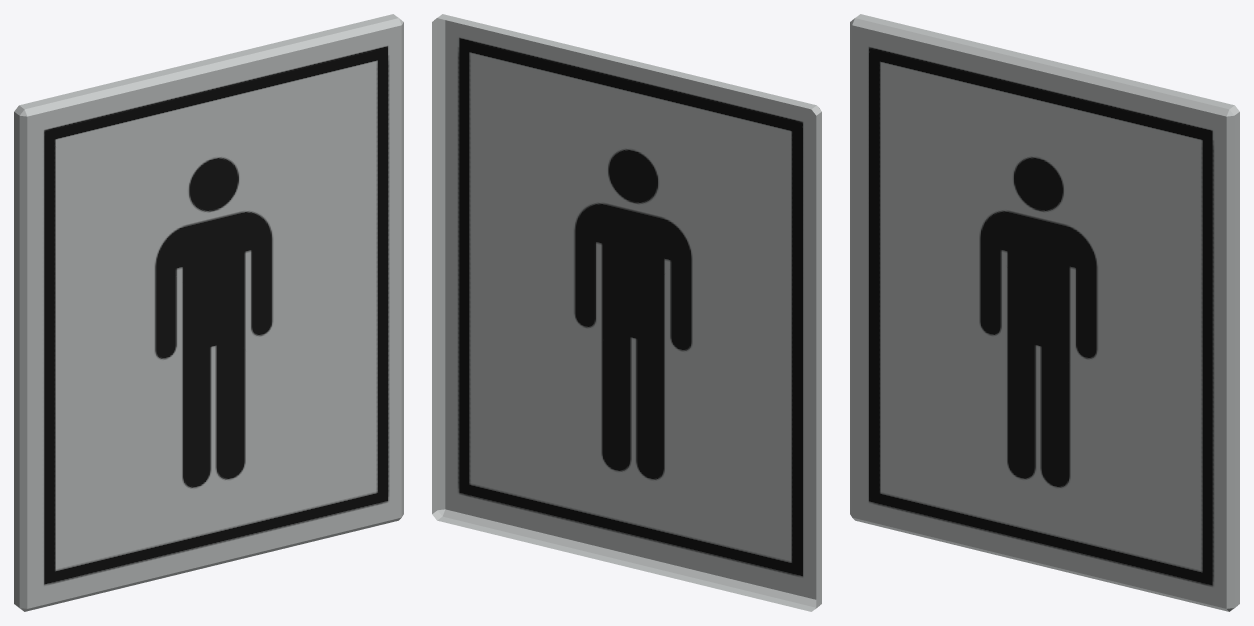
File: WC2Male.FBX
3 renders of one model, left to right at view 1: azimuth 30°, elevation 25°; view 2: azimuth 150°, elevation 25°; view 3: azimuth 330°, elevation 25°, orthographic.
Visible parts, largest first — view 1: WC2Male; view 2: WC2Male; view 3: WC2Male.
Boxes of the visible parts, left/top/right/bottom form: WC2Male: left=14, top=14, right=403, bottom=611; WC2Male: left=432, top=14, right=821, bottom=611; WC2Male: left=850, top=14, right=1239, bottom=611.
Bounding box in the file's own units: 12 × 15 × 0.4533.
